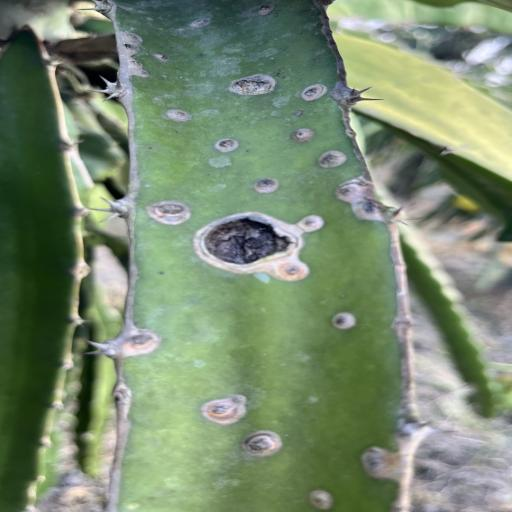stemcanker: (239, 428, 296, 458), (306, 305, 360, 332), (121, 30, 146, 78), (208, 398, 256, 423), (275, 261, 318, 285), (126, 332, 167, 356), (298, 488, 339, 511), (295, 210, 331, 232), (282, 129, 320, 148), (313, 152, 351, 170), (250, 3, 279, 22), (249, 180, 287, 194), (301, 86, 333, 102), (188, 13, 212, 34), (208, 140, 246, 153), (166, 106, 192, 122), (153, 49, 176, 67), (299, 50, 323, 66), (284, 109, 309, 121)
